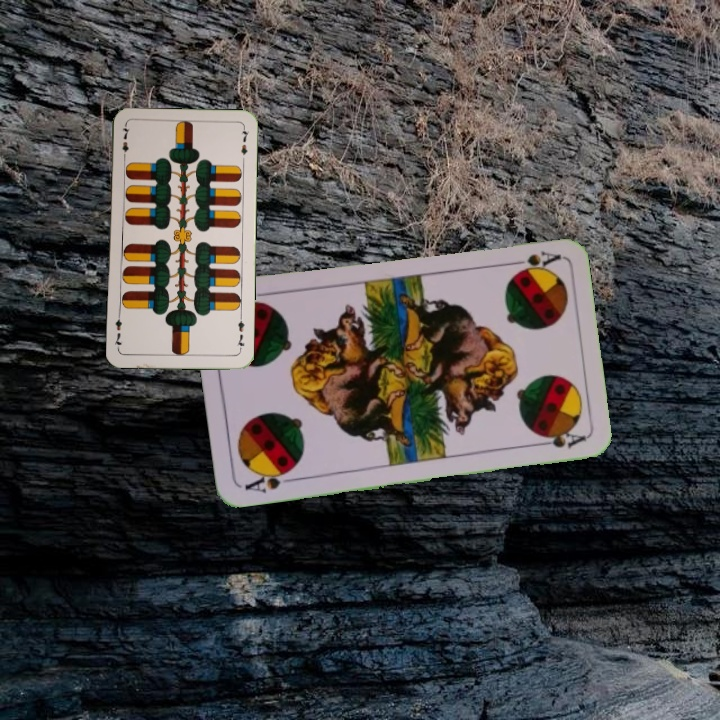E7: (233, 313, 247, 353), (118, 123, 132, 163)
SA: (240, 464, 299, 496), (503, 247, 562, 275)
